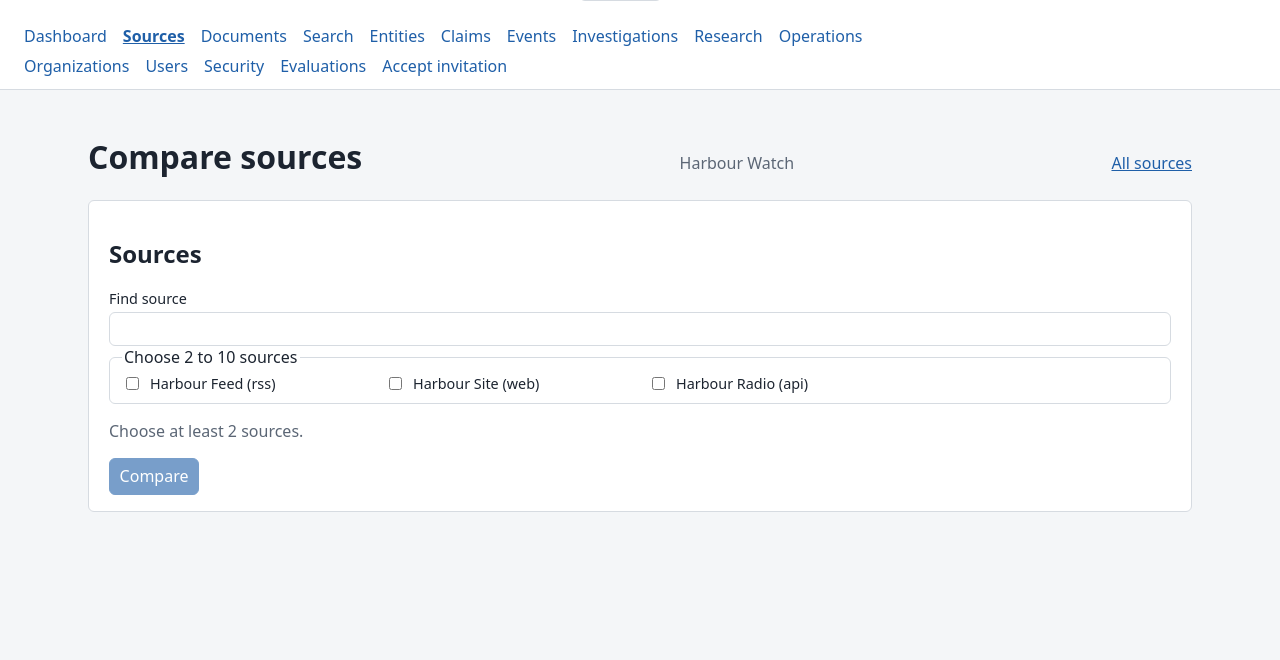
source comparison › compares two sources side by side
Step 1. Click the checkbox labelled "Harbour Feed (rss)" → coordinates (132, 383), box x1=126 y1=377 x2=139 y2=390
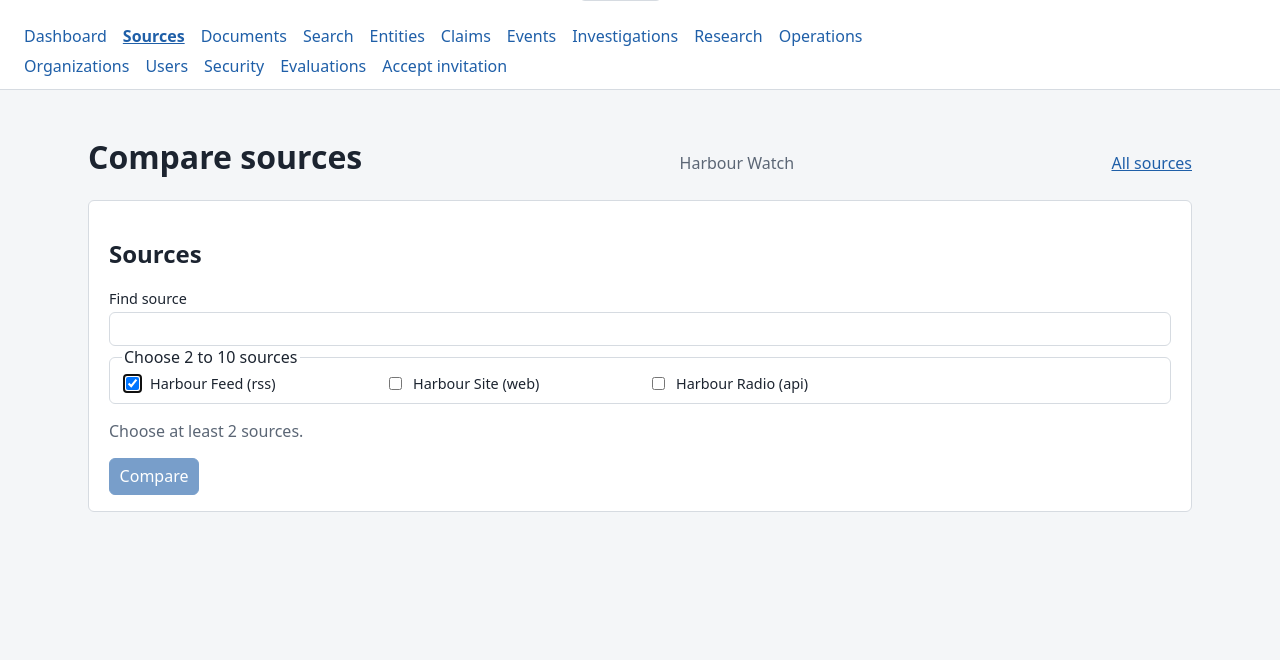
Step 2. Click the checkbox labelled "Harbour Site (web)" → coordinates (396, 383), box x1=389 y1=377 x2=402 y2=390
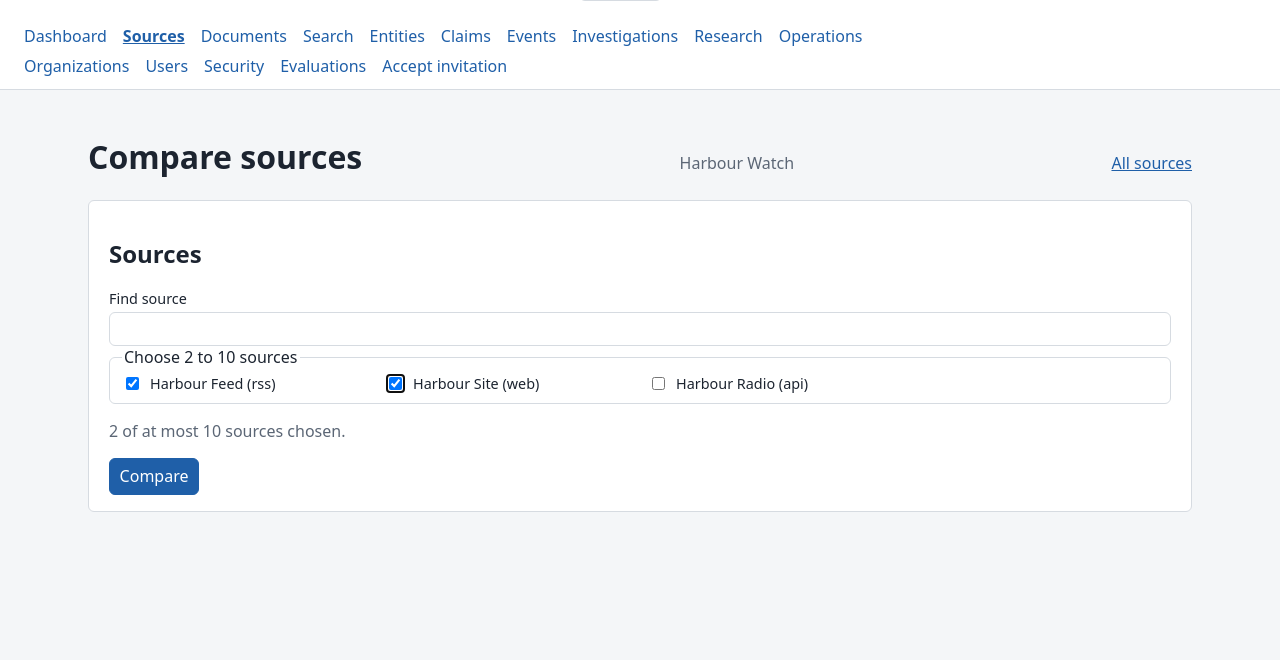
Step 3. Click the button "Compare" → coordinates (154, 476), box x1=109 y1=458 x2=199 y2=495
(page scrolled)
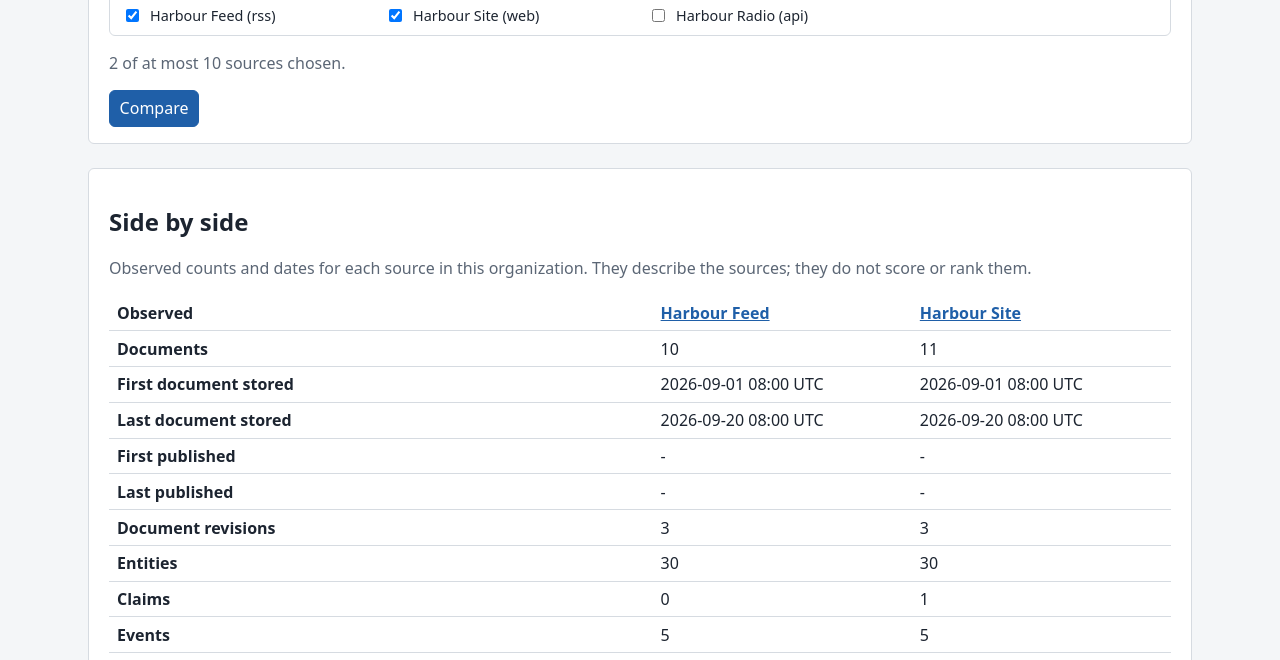
Now the column headings read "Observed", "Harbour Feed", "Harbour Site", in this order, box x1=109 y1=295 x2=653 y2=331; x1=653 y1=295 x2=912 y2=331; x1=912 y1=295 x2=1171 y2=331
Now the cells read "10", "11", in this order, box x1=653 y1=331 x2=912 y2=366; x1=912 y1=331 x2=1171 y2=366
